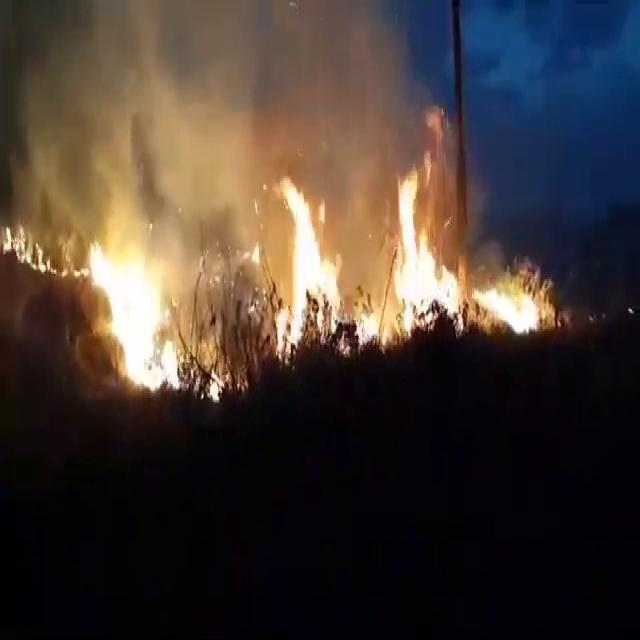Fire: (78, 244, 188, 388), (381, 158, 464, 344), (274, 180, 343, 346), (476, 278, 540, 336), (2, 224, 58, 276), (206, 368, 226, 404)
Smoke: (16, 0, 429, 188)
